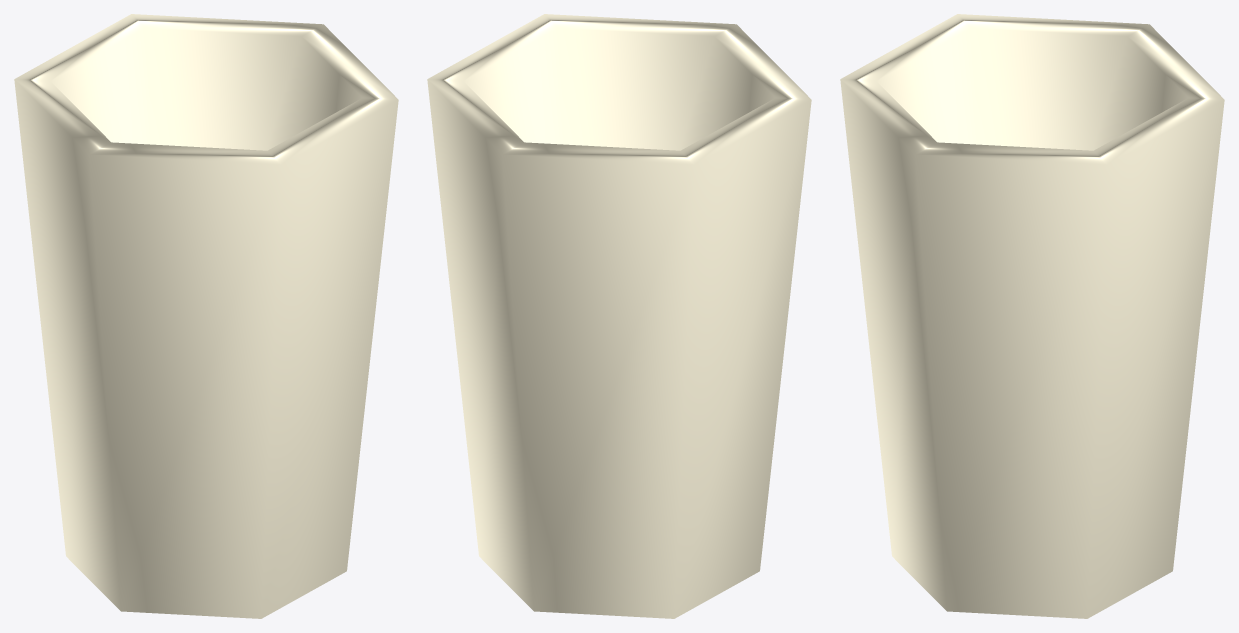
The model's file is ToothBrushCup.glb.
3 views of the same model, side by side, from view 1: azimuth 30°, elevation 25°; view 2: azimuth 150°, elevation 25°; view 3: azimuth 270°, elevation 25° (orthographic).
Parts seen in each view (by area): view 1: ToothBrushCup; view 2: ToothBrushCup; view 3: ToothBrushCup.
Boxes of the visible parts, x1=… form: ToothBrushCup: x1=14, y1=14, x2=398, y2=618; ToothBrushCup: x1=427, y1=14, x2=811, y2=618; ToothBrushCup: x1=840, y1=14, x2=1224, y2=618.
Size of what is drawn, in the model's own units: 0.1216 by 0.1781 by 0.1308.
1 material, 1 textured.
